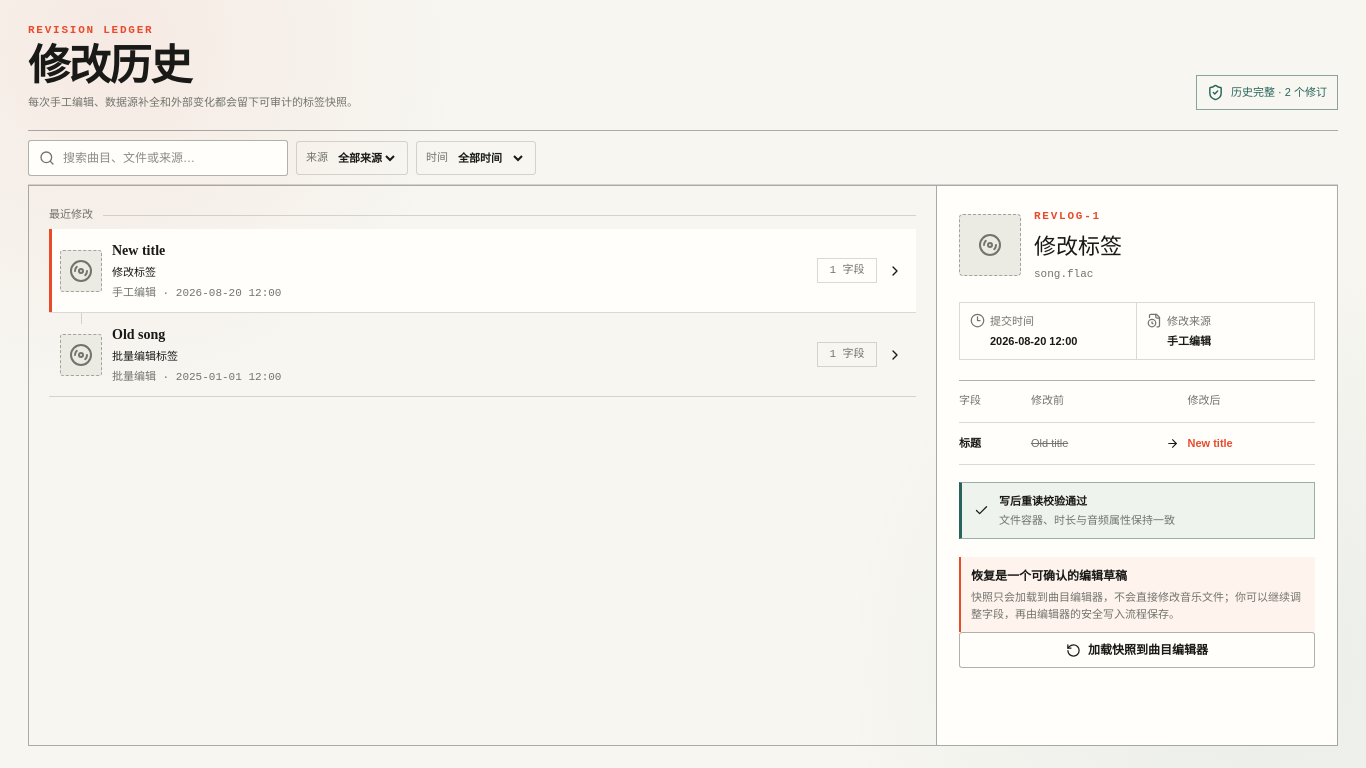
HistoryPage snapshot loading › filters revisions by source and recent date
Expected: the button "Old song 批量编辑标签 批量编辑 · 2025-01-01 12:00 1 字段" is shown, [49,313,916,397]
Select "批量编辑" in the dropdown named "历史来源筛选" at (366, 158), box [334,150,398,164]
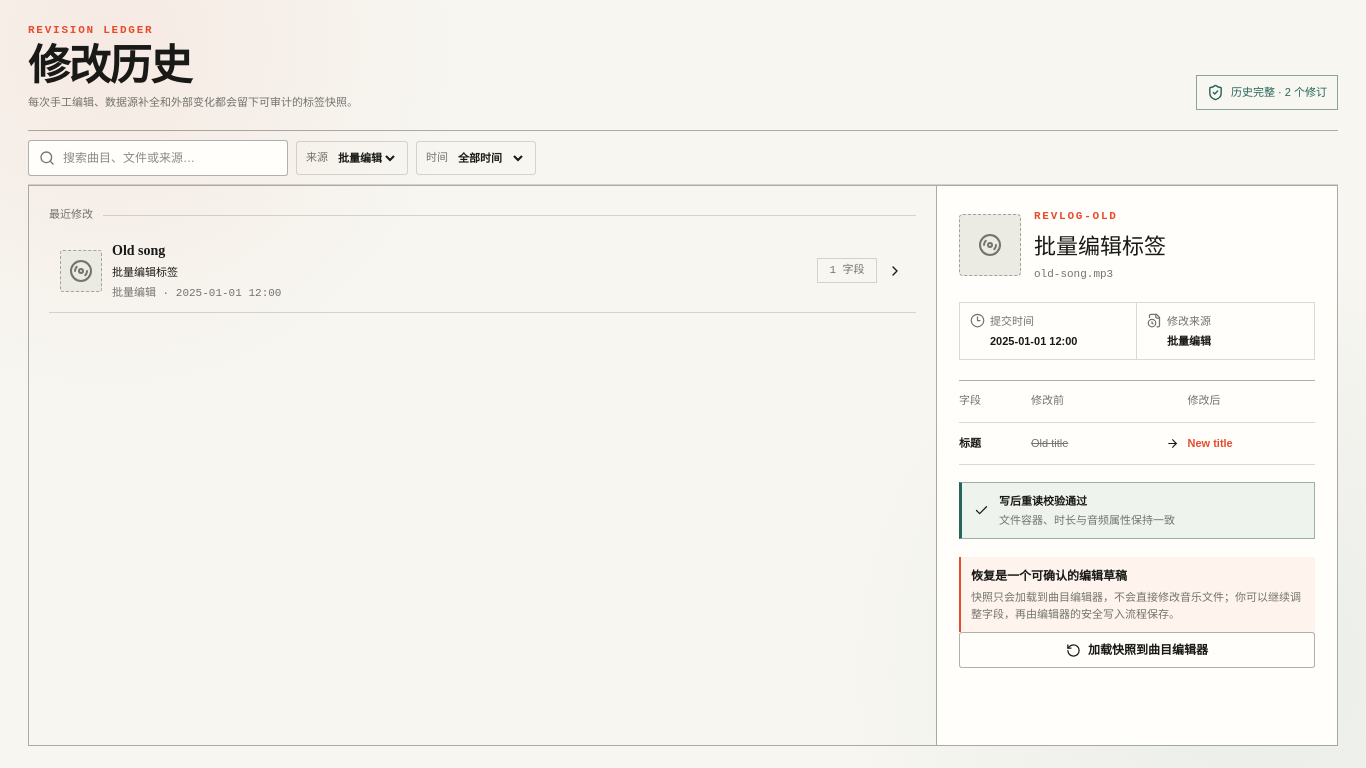
Expected: the button "Old song 批量编辑标签 批量编辑 · 2025-01-01 12:00 1 字段" is shown, [49,229,916,313]
Select "最近 30 天" in the dropdown named "历史时间筛选" at (490, 158), box [454,150,526,164]
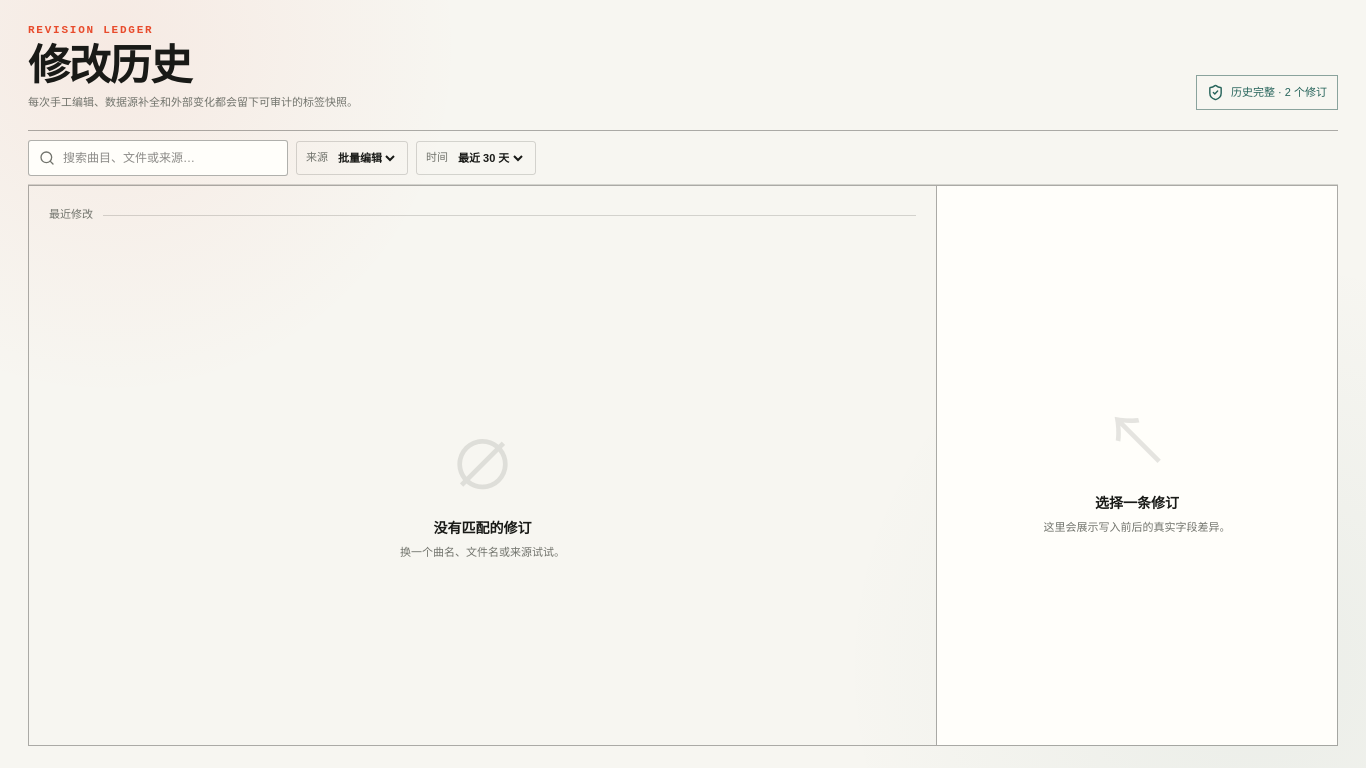
Result: the button "Old song" is gone
Result: the text "没有匹配的修订" is shown at [434,518,532,539]
